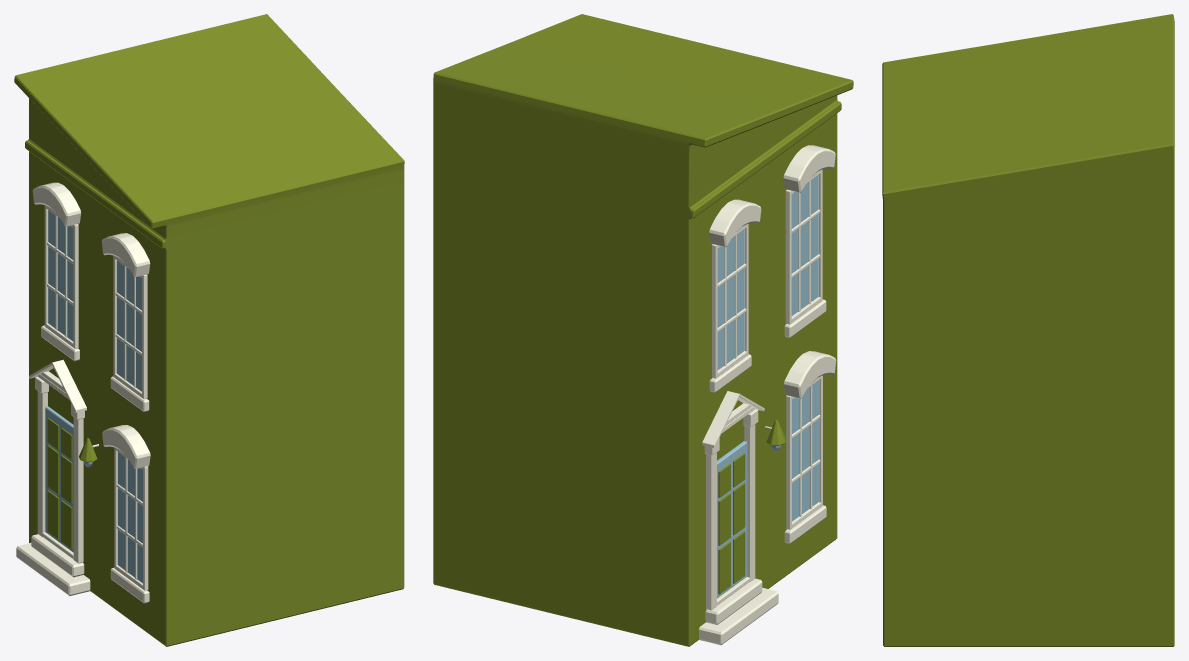
The model's file is TimHouse1.fbx.
3 views of the same model, side by side, from view 1: azimuth 30°, elevation 25°; view 2: azimuth 150°, elevation 25°; view 3: azimuth 270°, elevation 25° (orthographic). The views are drawn at different scales.
Visible parts, largest first — view 1: polySurface162; view 2: polySurface162; view 3: polySurface162.
Part boxes in pixels (x1=…): polySurface162: x1=14, y1=14, x2=404, y2=646; polySurface162: x1=433, y1=14, x2=853, y2=646; polySurface162: x1=882, y1=14, x2=1174, y2=646.
Size of the model in its own units: 548 by 957 by 504.
